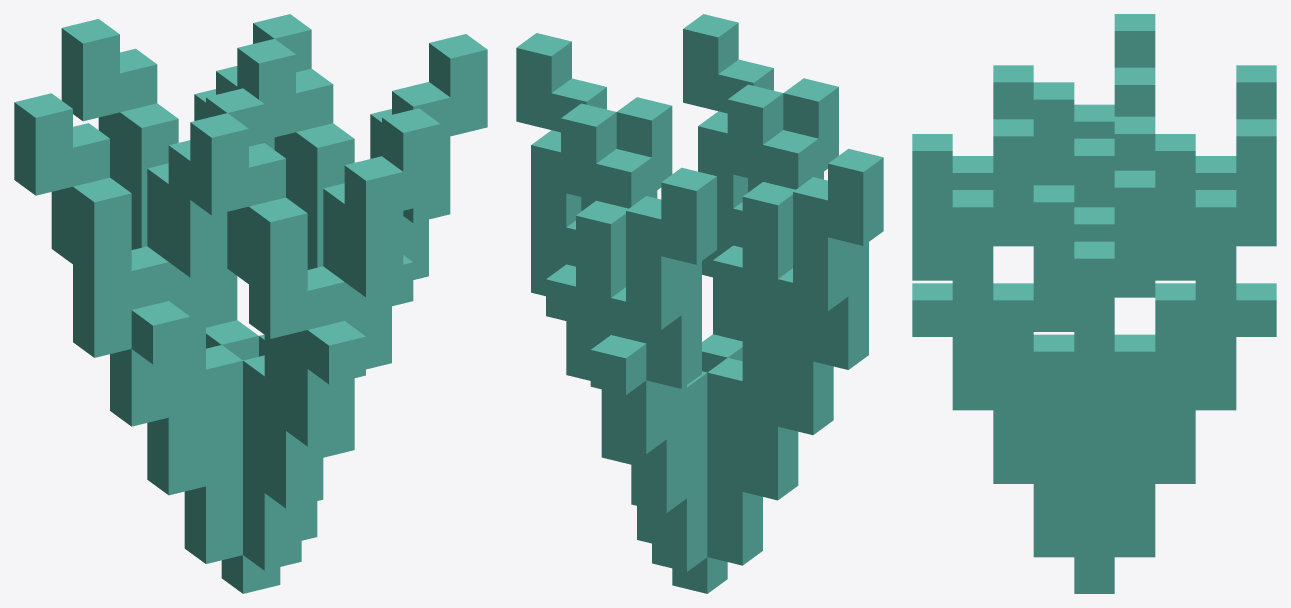
Rendered from alien-biosphere-coral-shrub-57527d6a__22707.glb.
The picture shows the model from 3 angles, left to right: view 1: azimuth 30°, elevation 25°; view 2: azimuth 150°, elevation 25°; view 3: azimuth 270°, elevation 25°; orthographic projection. The views are drawn at different scales.
Parts seen in each view (by area): view 1: coral-shrub; view 2: coral-shrub; view 3: coral-shrub.
Part boxes in pixels (x1,y1,x2,y2): coral-shrub: (14,14,487,593); coral-shrub: (516,14,883,593); coral-shrub: (912,14,1276,593).
Bounding box in the file's own units: 1.54 × 1.82 × 1.26.
